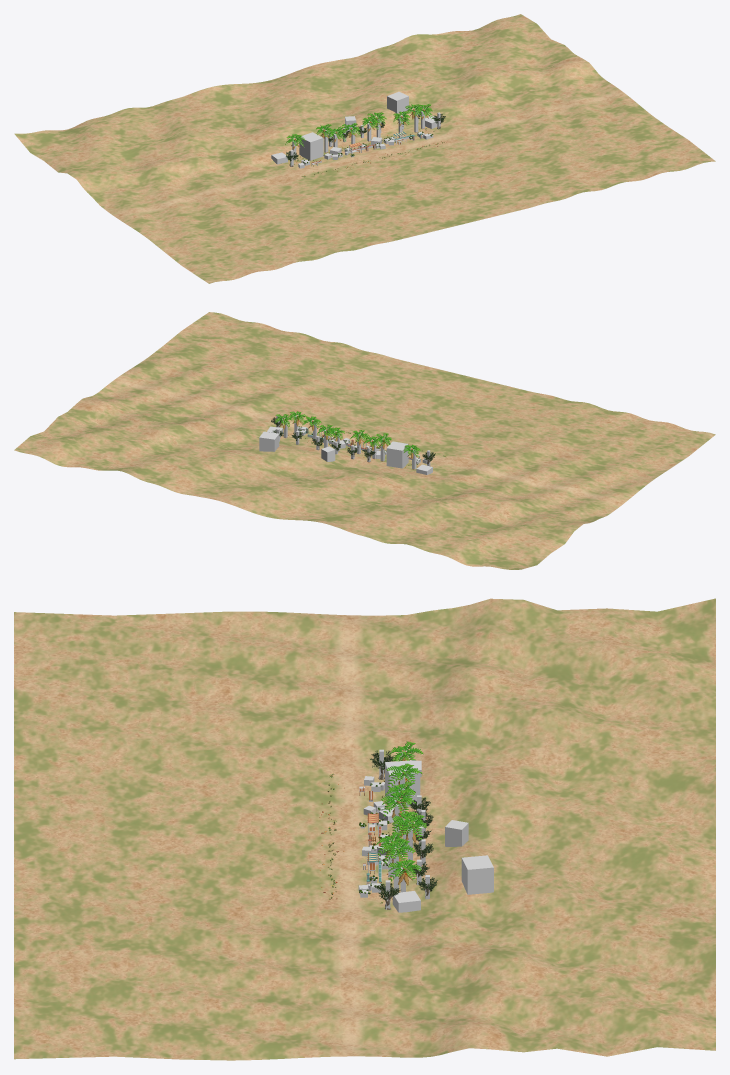
Rendered from palm-gardens.glb.
The picture shows the model from 3 angles, top to bottom: view 1: azimuth 30°, elevation 25°; view 2: azimuth 150°, elevation 25°; view 3: azimuth 270°, elevation 25°; orthographic projection. The views are drawn at different scales.
Visible parts, largest first — view 1: ground, col:pimen-chilie; view 2: ground, col:pimen-chilie; view 3: ground, col:chilie-alba, col:pimen-chilie.
Boxes of the visible parts, <box> form: ground: <box>14,14,715,283</box>; col:pimen-chilie: <box>299,132,323,160</box>; ground: <box>14,312,715,569</box>; col:pimen-chilie: <box>386,441,408,468</box>; ground: <box>14,598,715,1060</box>; col:chilie-alba: <box>461,855,493,894</box>; col:pimen-chilie: <box>385,760,420,807</box>.
Size of the model in its own units: 252 by 12.61 by 168.
Materials: 32 (9 with a texture image).
